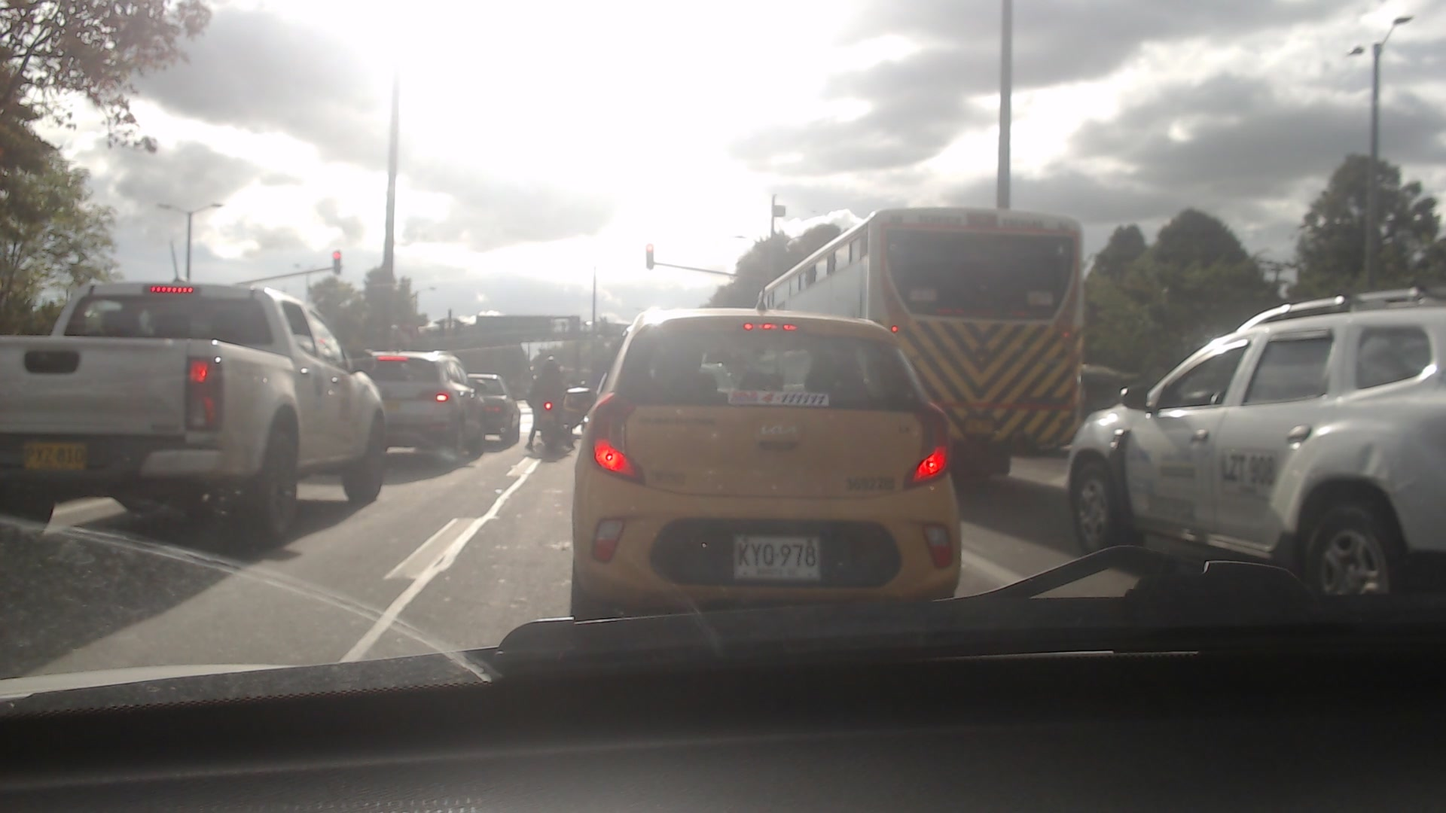bus: (747, 203, 1075, 449)
car: (1066, 285, 1446, 612), (584, 300, 956, 606), (10, 268, 390, 527), (364, 355, 488, 449)
motorcycle: (524, 398, 572, 448)
person: (529, 353, 568, 438)
